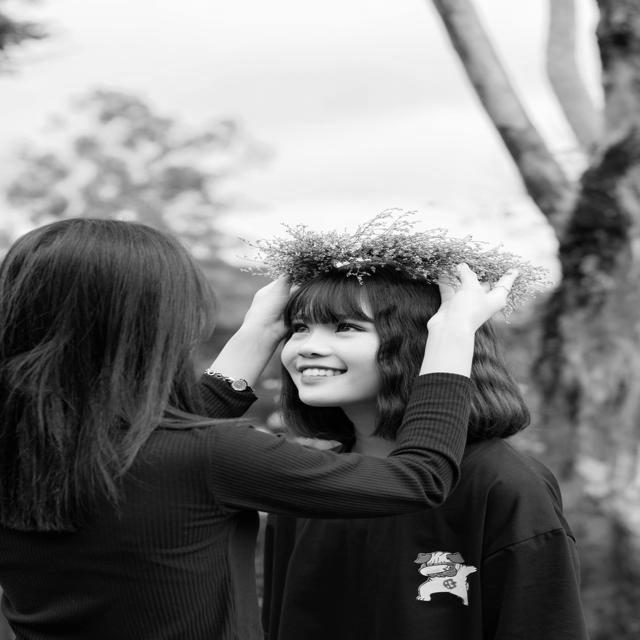Happiness: (273, 298, 387, 414)
